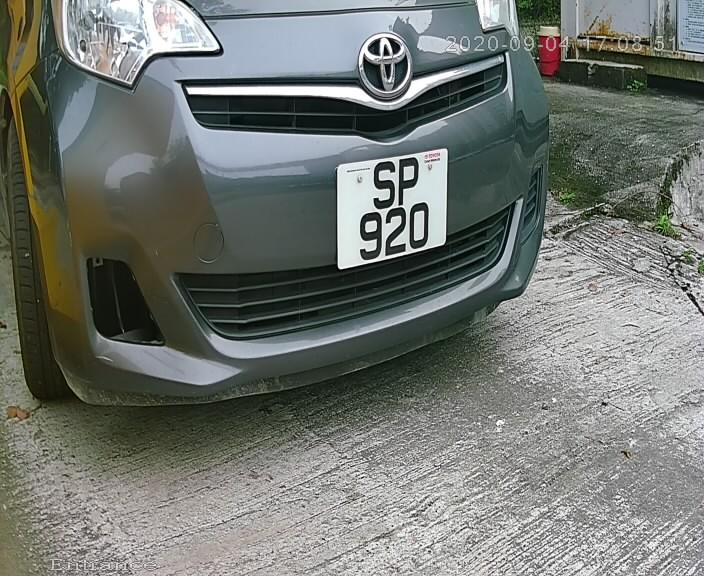License Plate: (327, 139, 459, 278)
